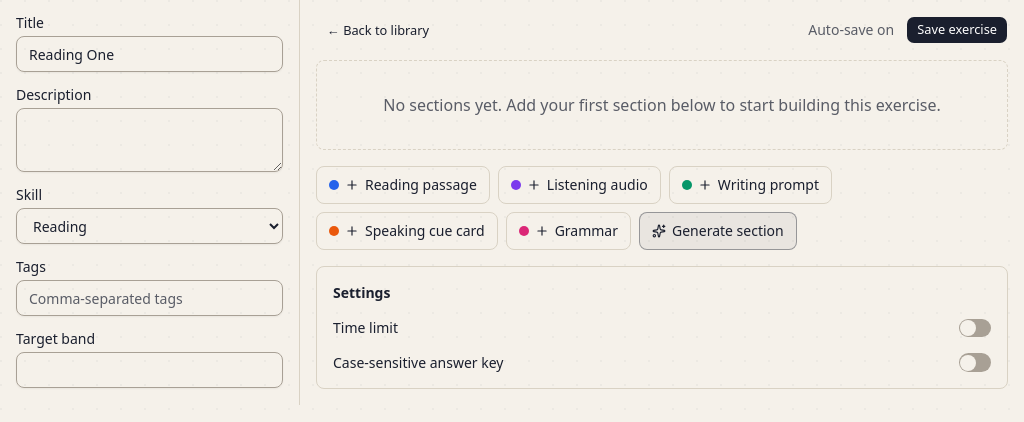
Test: ExerciseEditorPage — autosave (AC6) › a failed PATCH shows a non-blocking error + retry, editor stays usable
This screenshot has width=1024, height=422.
Replace the text in the field with test id "editor-title" with "X" at (150, 54), box x1=16 y1=36 x2=283 y2=72
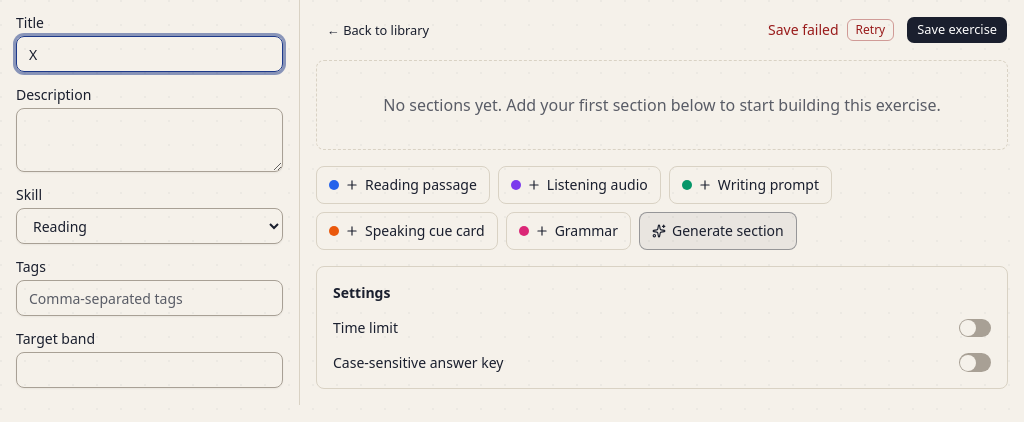
Check: the message "Save failed Retry" is shown, box x1=768 y1=19 x2=894 y2=41
Check: the button with test id "editor-autosave-retry" is shown, box x1=847 y1=19 x2=894 y2=41
